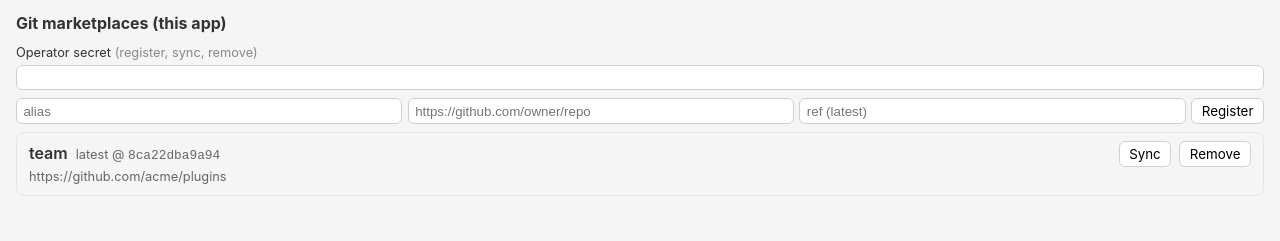
AppMarketplacePanel › explains an operator refusal (operator_auth_failed)
This screenshot has width=1280, height=241.
Click the button with test id "app-marketplace-remove-team". click: coordinates (1215, 154)
box: [1179,141,1251,167]
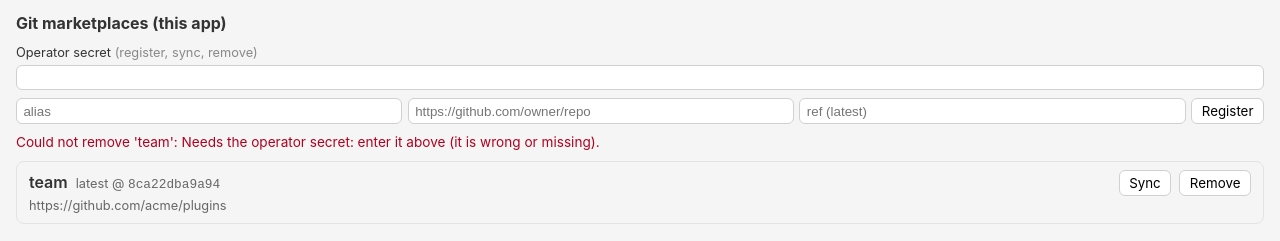
Check: the list item with test id "app-marketplace-row-team" is shown, box [16,161,1264,224]
Check: the message with test id "app-marketplace-error" shows "Needs the operator secret", box [16,134,600,150]
